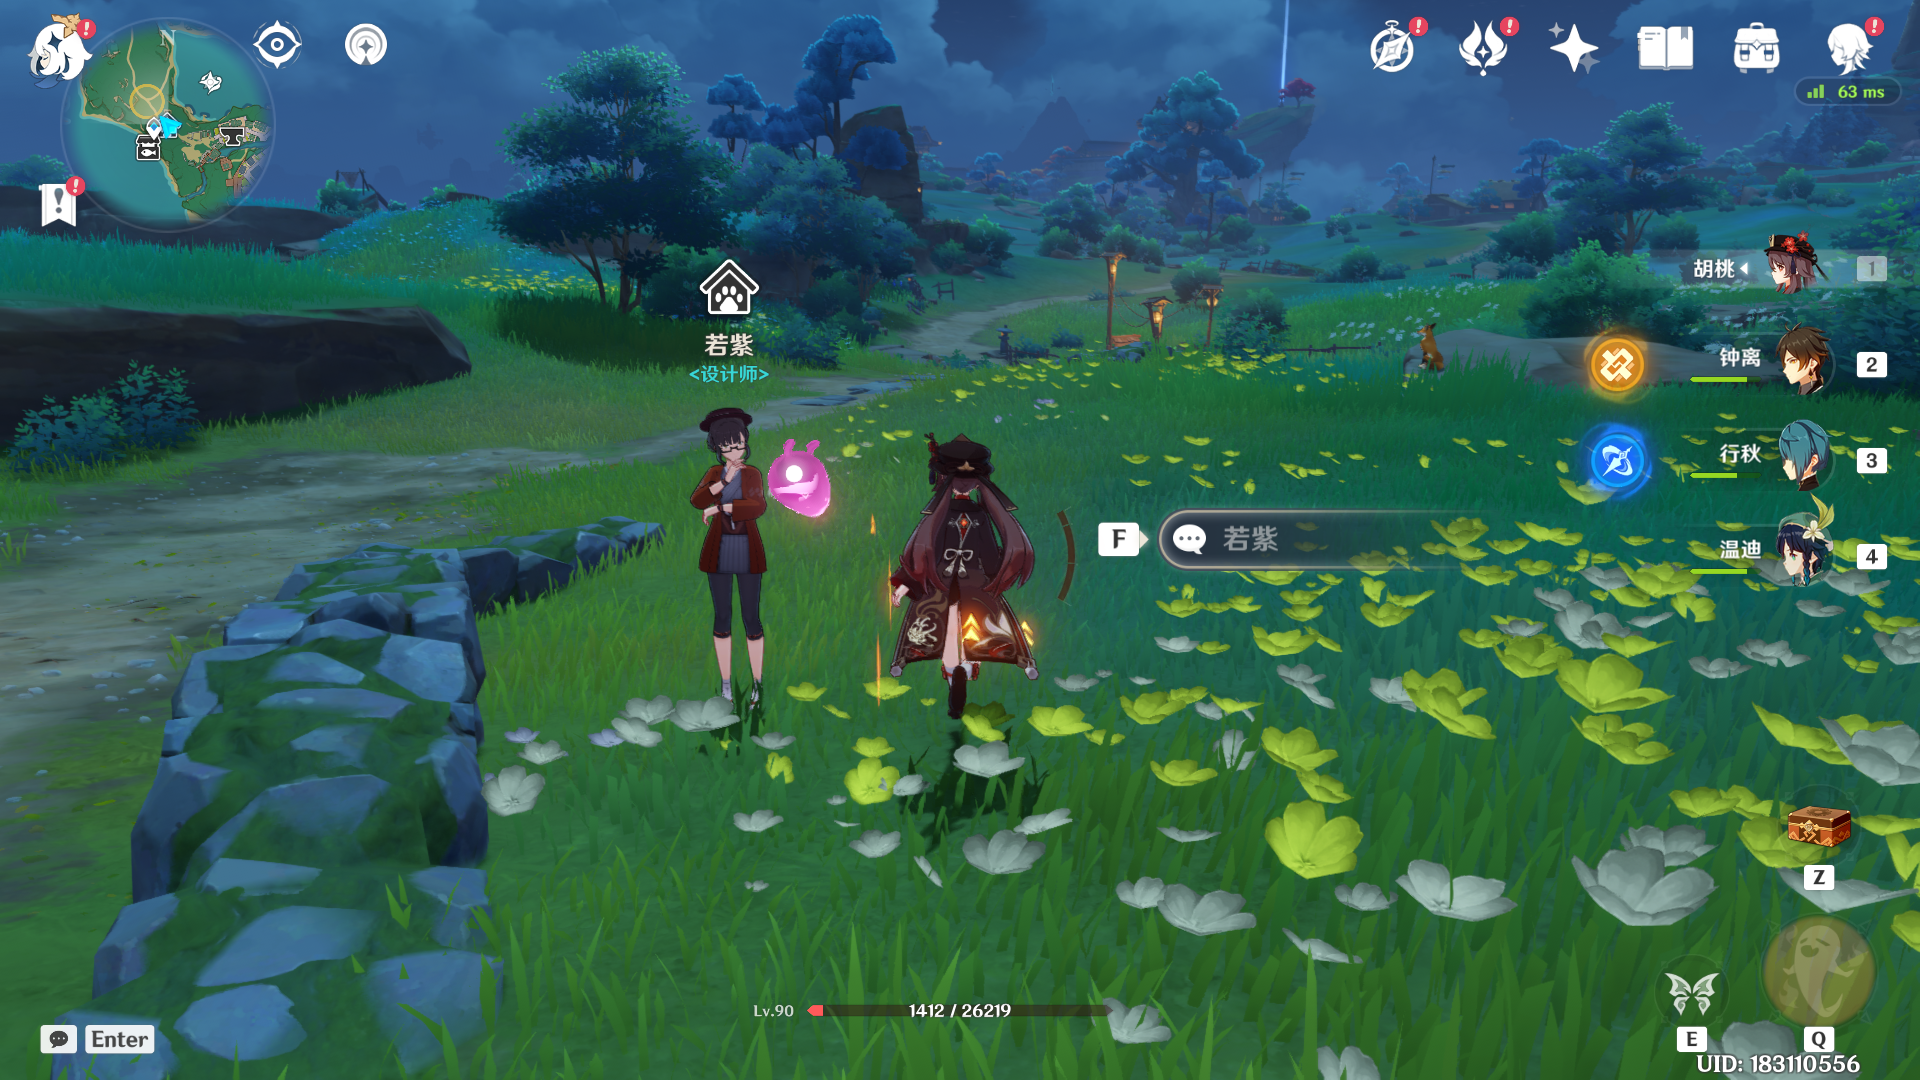character: (855, 417, 1088, 764)
